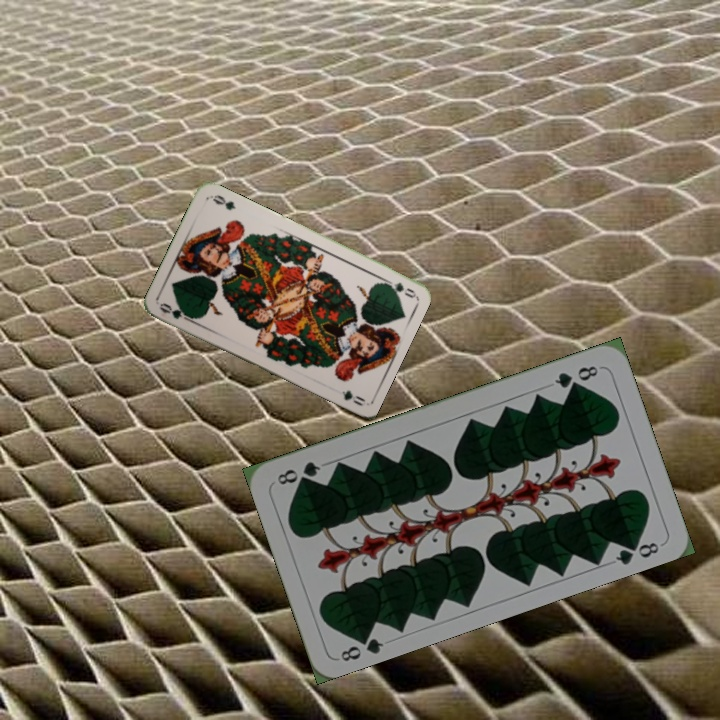G8: (336, 628, 386, 665), (550, 361, 601, 391)
GO: (377, 274, 418, 301), (156, 299, 196, 325)
